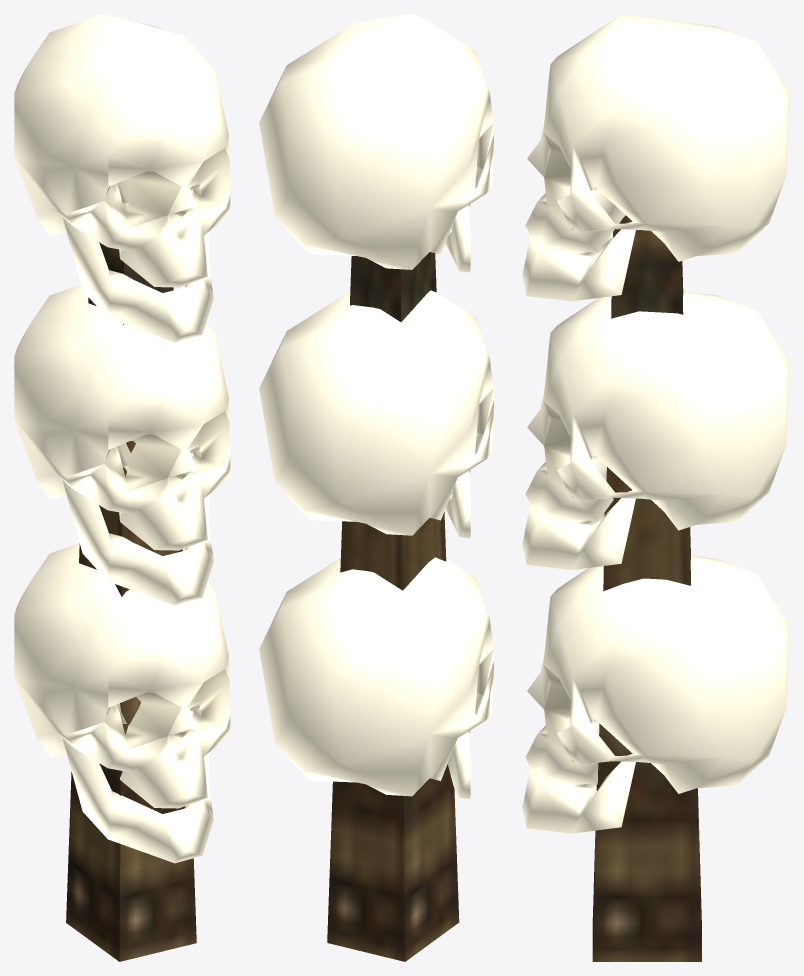
File: 7c531c77-b292-4bf3-b1d7-d920eac8d1a5.glb
3 views of the same model, side by side, from view 1: azimuth 30°, elevation 25°; view 2: azimuth 150°, elevation 25°; view 3: azimuth 270°, elevation 25° (orthographic). The views are drawn at different scales.
Visible parts, largest first — view 1: PostWithSkulls; view 2: PostWithSkulls; view 3: PostWithSkulls.
Part boxes in pixels (x1,y1,x2,y2): PostWithSkulls: [14, 14, 230, 961]; PostWithSkulls: [259, 14, 493, 961]; PostWithSkulls: [522, 14, 789, 961].
Size of what is drawn, in the model's own units: 0.2009 by 0.9871 by 0.2605.
Materials: 1 (1 with a texture image).
